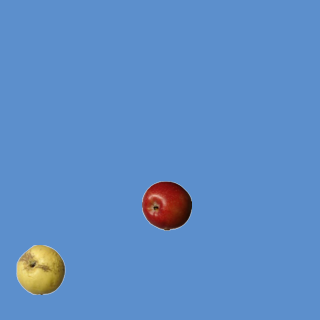Apple Braeburn: (141, 180, 191, 230)
Apple Golden 1: (15, 244, 65, 294)
